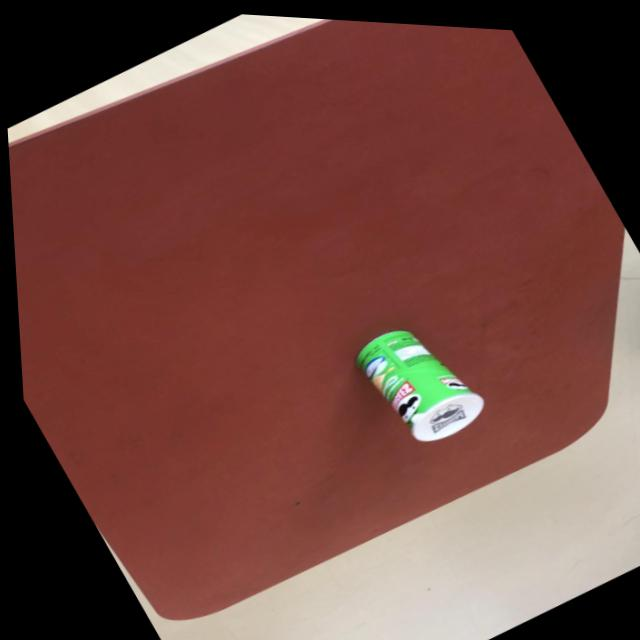a pringles: (340, 300, 490, 457)
